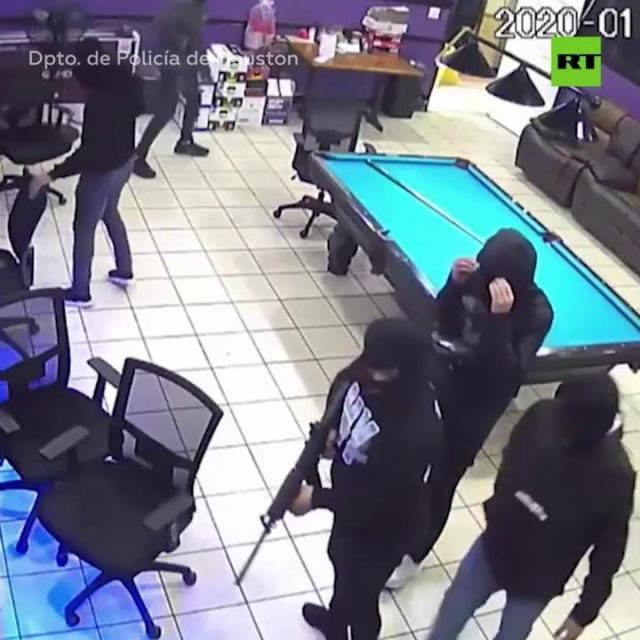weapon: (228, 369, 360, 591)
